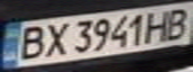1: (127, 10, 148, 46)
3: (69, 17, 97, 54)
4: (109, 12, 133, 48)
9: (90, 16, 115, 52)
B: (9, 23, 51, 62), (160, 4, 193, 40)
H: (142, 8, 175, 43)
X: (39, 20, 72, 58)
